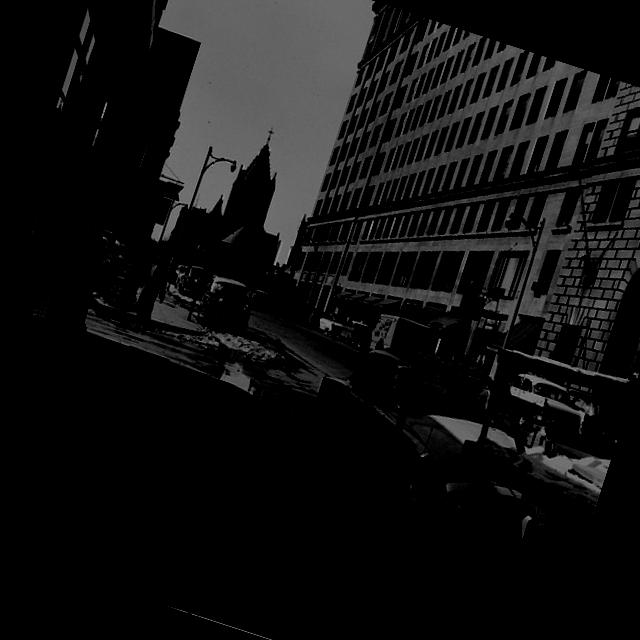Vehicle: (284, 320, 586, 571), (492, 366, 592, 442), (552, 387, 628, 458), (357, 307, 434, 374), (192, 272, 260, 340), (87, 228, 129, 294), (171, 260, 212, 302), (313, 307, 356, 343), (343, 319, 370, 350), (440, 347, 478, 368), (305, 308, 325, 330), (172, 264, 185, 278)
